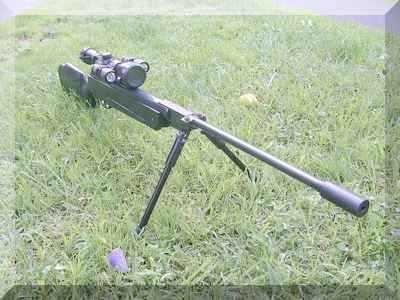heavyweapon: (52, 42, 372, 226)
